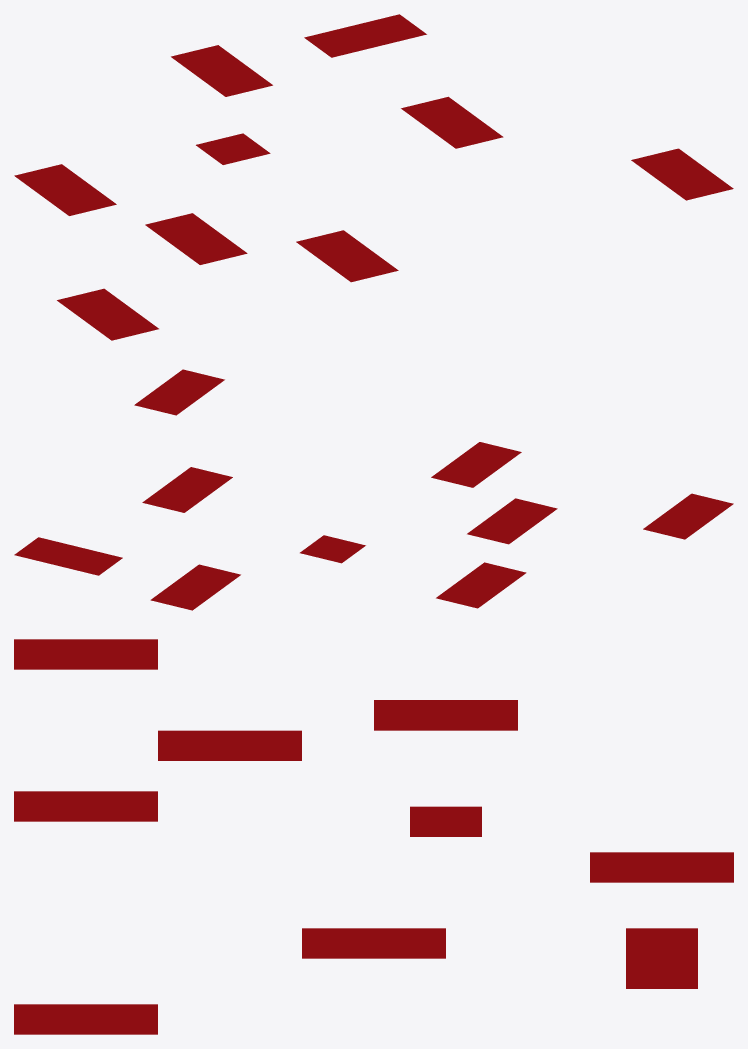
The model's file is lvl3.fbx.
3 renders of one model, top to bottom at view 1: azimuth 30°, elevation 25°; view 2: azimuth 150°, elevation 25°; view 3: azimuth 270°, elevation 25°, orthographic. The views are drawn at different scales.
Parts seen in each view (by area): view 1: Plane.015; view 2: Plane.015; view 3: Plane.015.
Boxes of the visible parts, x1,y1,x2,y2 form: Plane.015: (14,14,733,340); Plane.015: (14,369,733,610); Plane.015: (14,639,733,1034).
Size of the model in its own units: 13 by 10 by 0.
